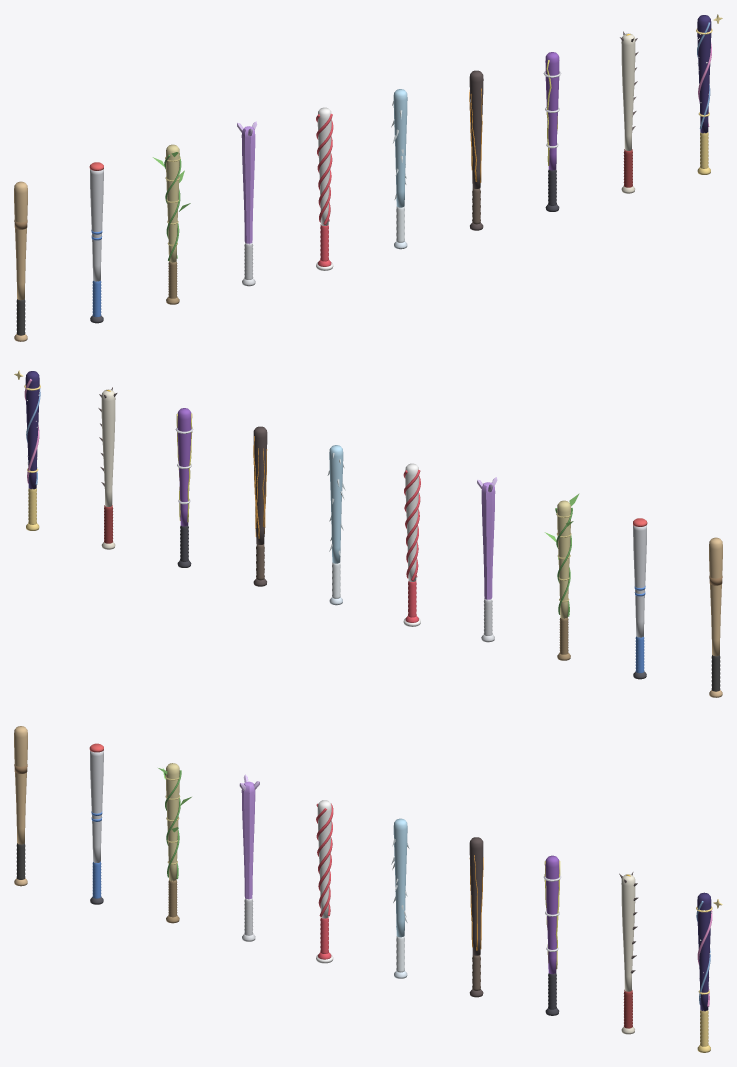
Rendered from Bats.fbx.
3 renders of one model, top to bottom at view 1: azimuth 30°, elevation 25°; view 2: azimuth 150°, elevation 25°; view 3: azimuth 330°, elevation 25°, orthographic.
Parts seen in each view (by area): view 1: dragon_bone_bat__Barrel, frostbite_bat__Barrel, amethyst_bat__Barrel, magma_bat__Barrel, wood_bat__Barrel, metal_bat__Barrel, lightning_bat__Barrel, celestial_bat__Barrel, jungle_bat__Barrel, candy_cane_bat__Barrel, candy_cane_bat__Stripes; view 2: dragon_bone_bat__Barrel, frostbite_bat__Barrel, amethyst_bat__Barrel, wood_bat__Barrel, magma_bat__Barrel, lightning_bat__Barrel, metal_bat__Barrel, celestial_bat__Barrel, jungle_bat__Barrel, candy_cane_bat__Barrel, candy_cane_bat__Stripes, magma_bat__Lava; view 3: frostbite_bat__Barrel, dragon_bone_bat__Barrel, amethyst_bat__Barrel, magma_bat__Barrel, wood_bat__Barrel, lightning_bat__Barrel, metal_bat__Barrel, celestial_bat__Barrel, jungle_bat__Barrel, candy_cane_bat__Barrel, candy_cane_bat__Stripes.
Part boxes in pixels (bbox=[...]): dragon_bone_bat__Barrel: bbox=[621, 33, 635, 150]; frostbite_bat__Barrel: bbox=[393, 89, 407, 207]; amethyst_bat__Barrel: bbox=[241, 126, 255, 244]; magma_bat__Barrel: bbox=[469, 70, 483, 188]; wood_bat__Barrel: bbox=[14, 181, 27, 300]; metal_bat__Barrel: bbox=[90, 169, 103, 281]; lightning_bat__Barrel: bbox=[545, 52, 559, 170]; celestial_bat__Barrel: bbox=[697, 15, 711, 133]; jungle_bat__Barrel: bbox=[166, 144, 179, 262]; candy_cane_bat__Barrel: bbox=[317, 107, 331, 225]; candy_cane_bat__Stripes: bbox=[316, 114, 333, 224]; dragon_bone_bat__Barrel: bbox=[101, 389, 115, 506]; frostbite_bat__Barrel: bbox=[329, 445, 343, 563]; amethyst_bat__Barrel: bbox=[481, 482, 495, 600]; wood_bat__Barrel: bbox=[709, 537, 722, 656]; magma_bat__Barrel: bbox=[253, 426, 267, 544]; lightning_bat__Barrel: bbox=[177, 408, 191, 526]; metal_bat__Barrel: bbox=[633, 525, 646, 637]; celestial_bat__Barrel: bbox=[25, 371, 39, 489]; jungle_bat__Barrel: bbox=[557, 500, 570, 618]; candy_cane_bat__Barrel: bbox=[405, 463, 419, 581]; candy_cane_bat__Stripes: bbox=[403, 469, 420, 580]; magma_bat__Lava: bbox=[253, 436, 267, 538]; frostbite_bat__Barrel: bbox=[393, 818, 407, 937]; dragon_bone_bat__Barrel: bbox=[621, 874, 635, 991]; amethyst_bat__Barrel: bbox=[241, 781, 255, 899]; magma_bat__Barrel: bbox=[469, 837, 483, 955]; wood_bat__Barrel: bbox=[14, 726, 27, 844]; lightning_bat__Barrel: bbox=[545, 855, 559, 974]; metal_bat__Barrel: bbox=[90, 750, 103, 862]; celestial_bat__Barrel: bbox=[697, 892, 711, 1011]; jungle_bat__Barrel: bbox=[166, 763, 179, 881]; candy_cane_bat__Barrel: bbox=[317, 800, 331, 918]; candy_cane_bat__Stripes: bbox=[316, 803, 333, 916].
Size of the model in its own units: 1864 by 408 by 70.49.
